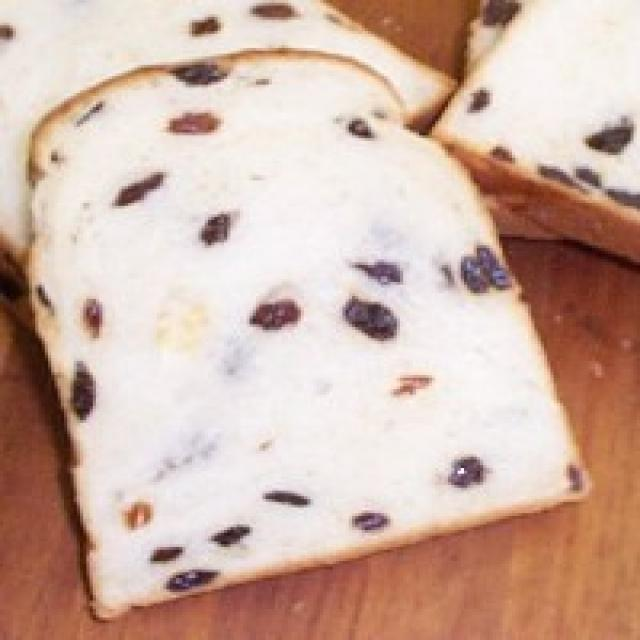面包点心: (0, 0, 640, 612)
